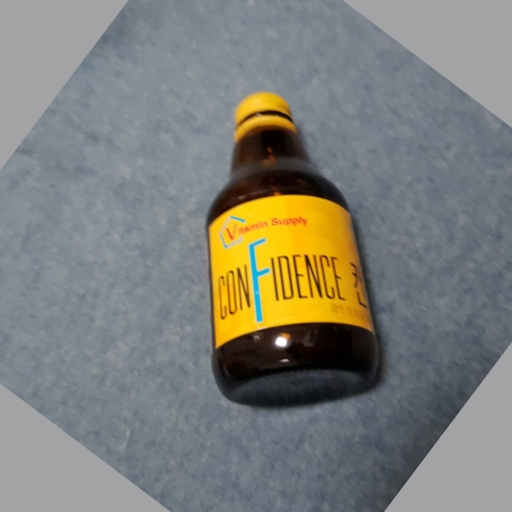Glass_3: (204, 86, 383, 403)
